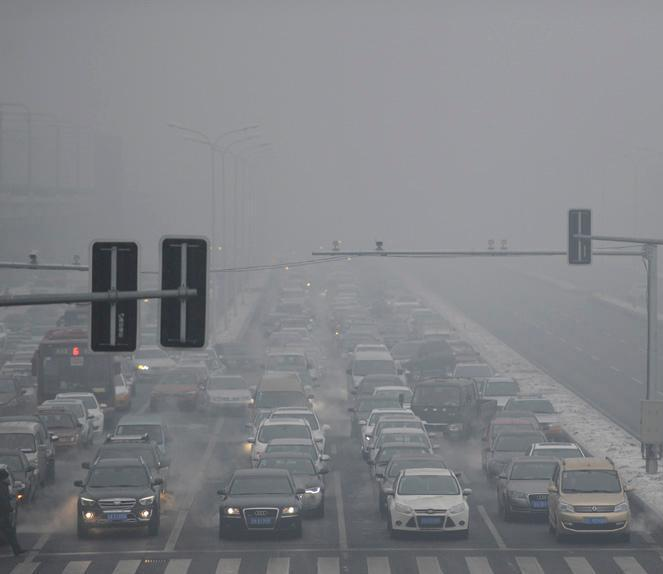bus: (32, 329, 124, 416), (411, 374, 499, 439)
car: (71, 455, 165, 541), (546, 453, 636, 540), (216, 467, 307, 539), (381, 466, 473, 537), (88, 432, 171, 507), (374, 452, 464, 515), (248, 451, 330, 520), (495, 455, 567, 521), (2, 413, 59, 486), (485, 426, 549, 490), (245, 415, 323, 467), (265, 435, 331, 496), (481, 406, 542, 472), (371, 440, 435, 496), (522, 440, 587, 495), (1, 418, 48, 489), (270, 404, 332, 457), (248, 372, 315, 418), (113, 413, 171, 466), (363, 405, 421, 455), (390, 337, 459, 379), (1, 447, 43, 515), (148, 366, 207, 414), (32, 406, 85, 459), (370, 426, 433, 468), (43, 397, 94, 447), (504, 391, 562, 434), (57, 389, 107, 438), (346, 349, 399, 395), (198, 372, 254, 413), (258, 346, 314, 385), (350, 372, 405, 410), (348, 394, 394, 439), (125, 341, 172, 379), (476, 374, 522, 411), (372, 414, 425, 445), (2, 360, 39, 403), (448, 361, 494, 393), (370, 382, 415, 414), (344, 340, 389, 370), (1, 373, 29, 417), (278, 323, 314, 354), (405, 307, 438, 331)
